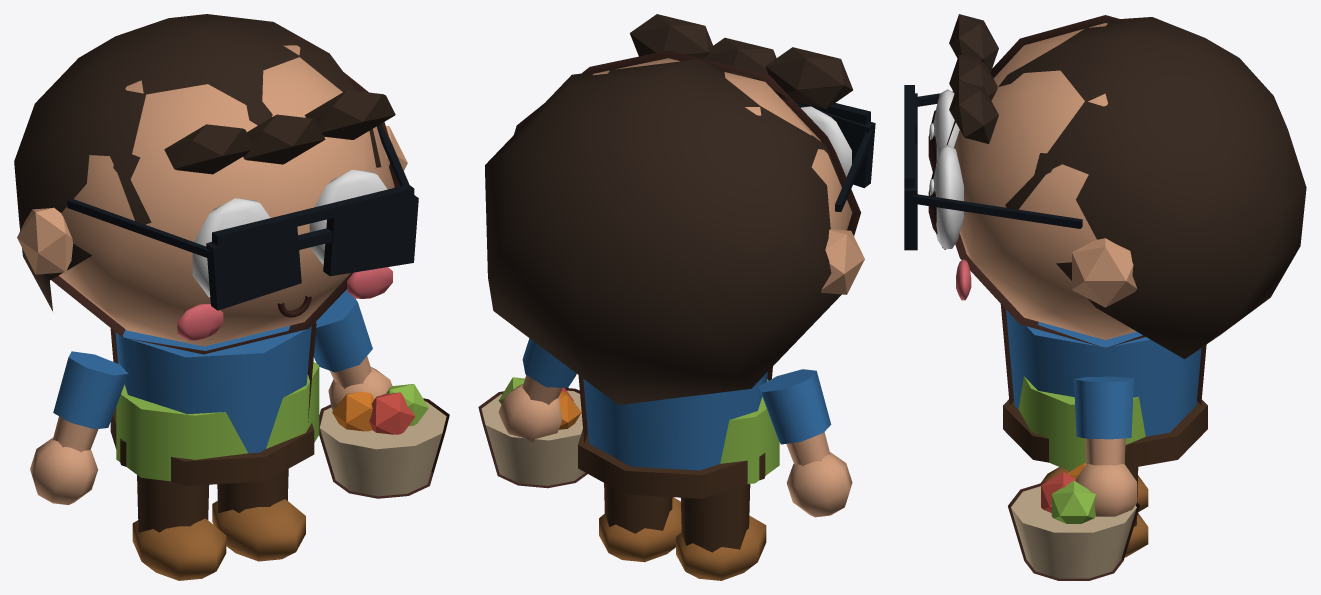
File: npc_darto.glb
3 renders of one model, left to right at view 1: azimuth 30°, elevation 25°; view 2: azimuth 150°, elevation 25°; view 3: azimuth 270°, elevation 25°, orthographic. The views are drawn at different scales.
Visible parts, largest first — view 1: head_mesh, npc_darto_mesh, arm_L_mesh, leg_L_mesh, leg_R_mesh, arm_R_mesh; view 2: head_mesh, npc_darto_mesh, arm_L_mesh, leg_L_mesh, leg_R_mesh, arm_R_mesh; view 3: head_mesh, npc_darto_mesh, arm_R_mesh, leg_R_mesh.
Part boxes in pixels (x1,y1,x2,y2): head_mesh: (14,14,418,354); npc_darto_mesh: (110,322,449,498); arm_L_mesh: (30,351,128,504); leg_L_mesh: (132,475,226,580); leg_R_mesh: (212,469,305,561); arm_R_mesh: (314,289,392,410); head_mesh: (485,14,875,404); npc_darto_mesh: (478,366,779,498); arm_L_mesh: (759,369,852,517); leg_L_mesh: (676,484,766,580); leg_R_mesh: (599,483,681,562); arm_R_mesh: (498,338,576,442); head_mesh: (904,14,1306,359); npc_darto_mesh: (1000,304,1207,580); arm_R_mesh: (1074,376,1136,516); leg_R_mesh: (1069,467,1148,557).
Size of the model in its own units: 1.2 by 1.51 by 1.08.
